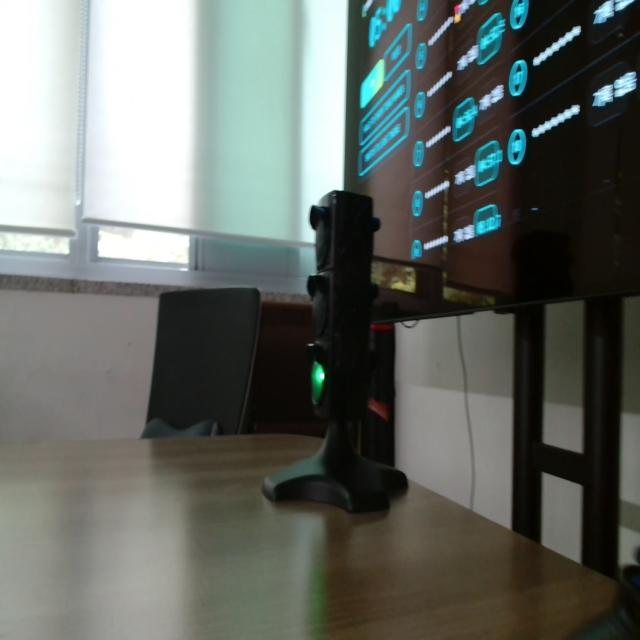green_light: (311, 362, 325, 404)
